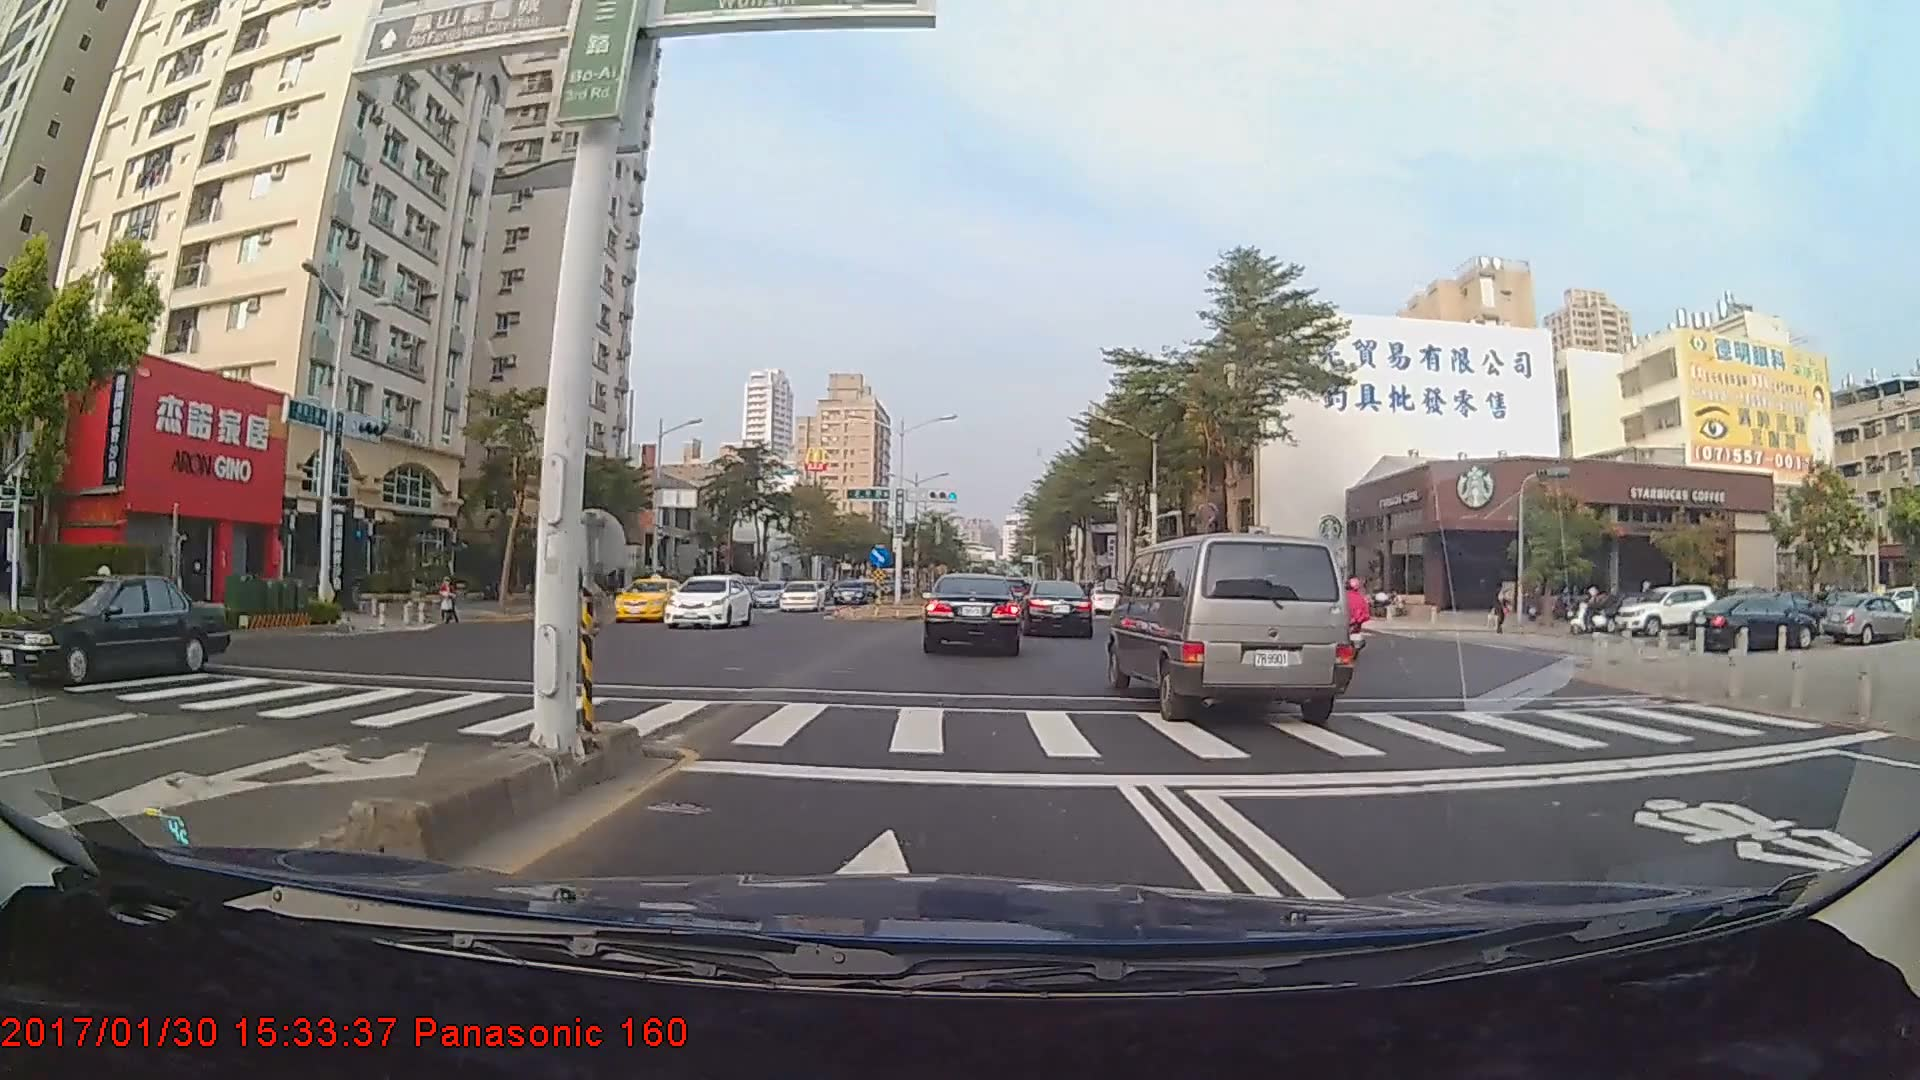rider: (1574, 584, 1617, 640)
vehicle: (1117, 531, 1353, 722), (0, 571, 232, 684), (922, 573, 1023, 655), (1691, 587, 1821, 649), (661, 572, 754, 629), (1613, 586, 1715, 635), (1814, 592, 1907, 643), (1018, 578, 1094, 639), (610, 577, 688, 624), (777, 580, 826, 612), (832, 577, 868, 603)
